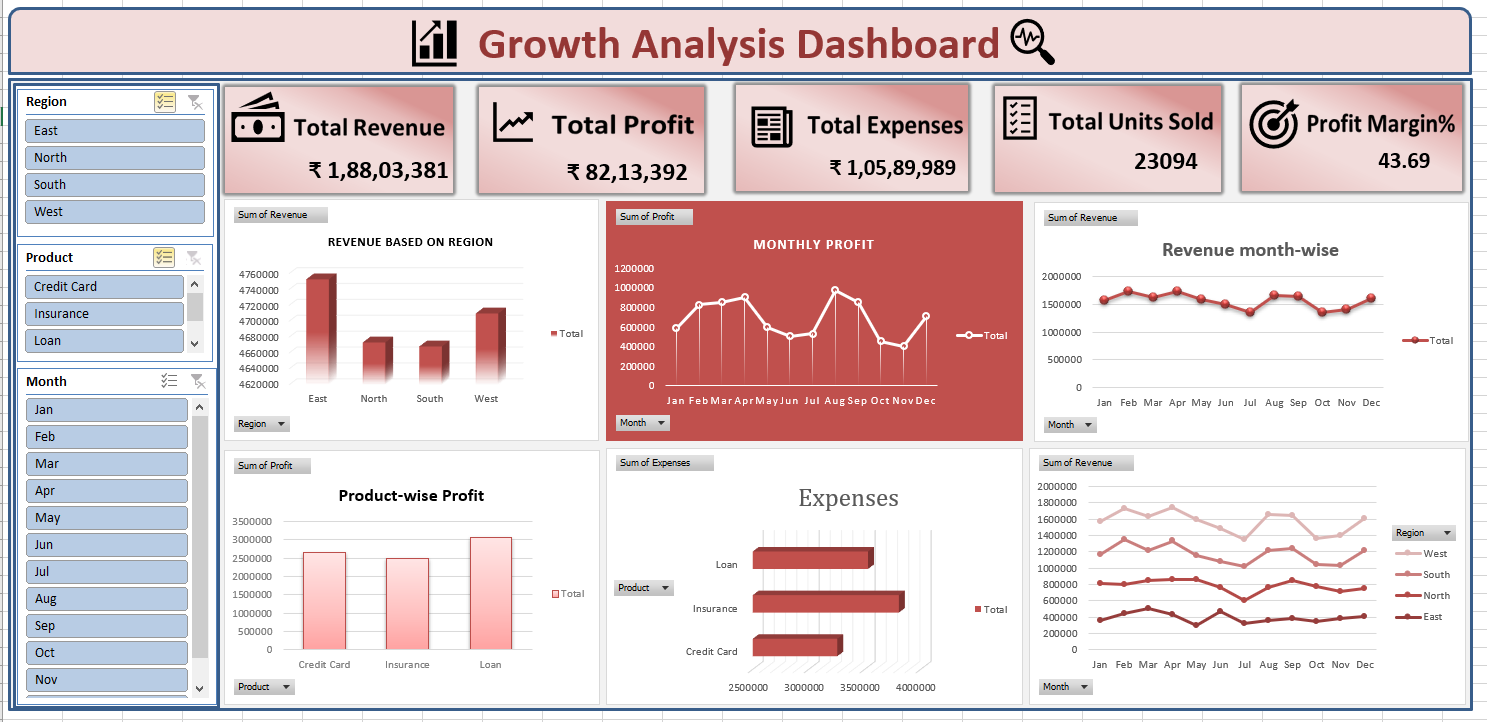

Layout of this report page (visuals, bound fields, positions):
{"tool":"powerbi","page":{"name":"Page 1","canvas":[1280,720],"ordinal":0},"visuals":[{"type":"shape","box":[658.5,427.9,383.3,281.5],"z":0},{"type":"shape","box":[377,439,454.9,281.5],"z":1000},{"type":"shape","box":[0,0,1280.4,720.5],"z":2000},{"type":"shape","box":[1053.3,0,226.7,105],"z":3000},{"type":"shape","box":[1053,105,227.5,615.6],"z":4000},{"type":"textbox","box":[1053.3,0,213.3,140],"z":5000},{"type":"shape","box":[0,427.9,338.8,292.7],"z":6000},{"type":"columnChart","fields":{"Y":["Sum(Finance_Data.Revenue)"],"Category":["Finance_Data.Region"]},"box":[6.4,439,326.1,270.4],"z":7000},{"type":"lineChart","fields":{"Y":["Sum(Finance_Data.Profit)"],"Category":["Finance_Data.Month"]},"box":[658.5,439,394.5,281.5],"z":8000},{"type":"barChart","fields":{"Y":["Sum(Finance_Data.Expenses)"],"Category":["Finance_Data.Product"]},"box":[340.4,439,318.1,281.5],"z":9000},{"type":"slicer","fields":{"Values":["Finance_Data.Product"]},"box":[1070.5,273.6,189.3,138.4],"z":10000},{"type":"slicer","fields":{"Values":["Finance_Data.Region"]},"box":[1070.5,116.1,189.3,146.3],"z":11000},{"type":"slicer","fields":{"Values":["Finance_Data.Month"]},"box":[1067.3,427.9,192.5,292.7],"z":12000},{"type":"pieChart","fields":{"Category":["Finance_Data.Product"],"Y":["Sum(Finance_Data.Profit)"]},"box":[6.4,136.8,299,291.1],"z":13000},{"type":"lineChart","fields":{"Y":["Sum(Finance_Data.Revenue)"],"Category":["Finance_Data.Month"]},"box":[658.5,136.8,394.5,291.1],"z":14000},{"type":"columnChart","fields":{"Category":["Finance_Data.Month"],"Series":["Finance_Data.Region"],"Y":["Sum(Finance_Data.Revenue)"]},"box":[305.4,136.8,353.1,291.1],"z":15000},{"type":"cardVisual","title":"Total Revenue","fields":{"Data":["Finance_Data.Total Revenue"]},"box":[20.7,12.7,186.1,114.5],"z":15001},{"type":"cardVisual","title":"Total Profit","fields":{"Data":["Finance_Data.Total profit"]},"box":[229,12.7,186.1,114.5],"z":15002},{"type":"cardVisual","title":"Total Expenses","fields":{"Data":["Finance_Data.Total Expenses"]},"box":[439,12.7,186.1,114.5],"z":15003},{"type":"cardVisual","title":"Profit Margin% ","fields":{"Data":["Finance_Data.Profit Margin%"]},"box":[645.8,12.7,186.1,114.5],"z":15004},{"type":"cardVisual","title":"Total Units Sold","fields":{"Data":["Finance_Data.Total units sold"]},"box":[855.7,12.7,186.1,114.5],"z":15005}]}

Visuals, with their boxes in screenshot pixels (x1, y1, x2, y2):
shape: (left=859, top=414, right=1237, bottom=692)
shape: (left=581, top=425, right=1030, bottom=703)
shape: (left=209, top=0, right=1472, bottom=703)
shape: (left=1248, top=0, right=1472, bottom=96)
shape: (left=1248, top=96, right=1472, bottom=703)
textbox: (left=1248, top=0, right=1459, bottom=130)
shape: (left=209, top=414, right=543, bottom=703)
columnChart - Sum(Finance_Data.Revenue) x Finance_Data.Region: (left=215, top=425, right=537, bottom=692)
lineChart - Sum(Finance_Data.Profit) x Finance_Data.Month: (left=859, top=425, right=1248, bottom=703)
barChart - Sum(Finance_Data.Expenses) x Finance_Data.Product: (left=545, top=425, right=859, bottom=703)
slicer - Finance_Data.Product: (left=1265, top=262, right=1452, bottom=399)
slicer - Finance_Data.Region: (left=1265, top=107, right=1452, bottom=251)
slicer - Finance_Data.Month: (left=1262, top=414, right=1452, bottom=703)
pieChart - Finance_Data.Product x Sum(Finance_Data.Profit): (left=215, top=127, right=510, bottom=414)
lineChart - Sum(Finance_Data.Revenue) x Finance_Data.Month: (left=859, top=127, right=1248, bottom=414)
columnChart - Finance_Data.Month x Finance_Data.Region: (left=510, top=127, right=859, bottom=414)
"Total Revenue" cardVisual: (left=230, top=5, right=413, bottom=118)
"Total Profit" cardVisual: (left=435, top=5, right=619, bottom=118)
"Total Expenses" cardVisual: (left=642, top=5, right=826, bottom=118)
"Profit Margin% " cardVisual: (left=846, top=5, right=1030, bottom=118)
"Total Units Sold" cardVisual: (left=1053, top=5, right=1237, bottom=118)
